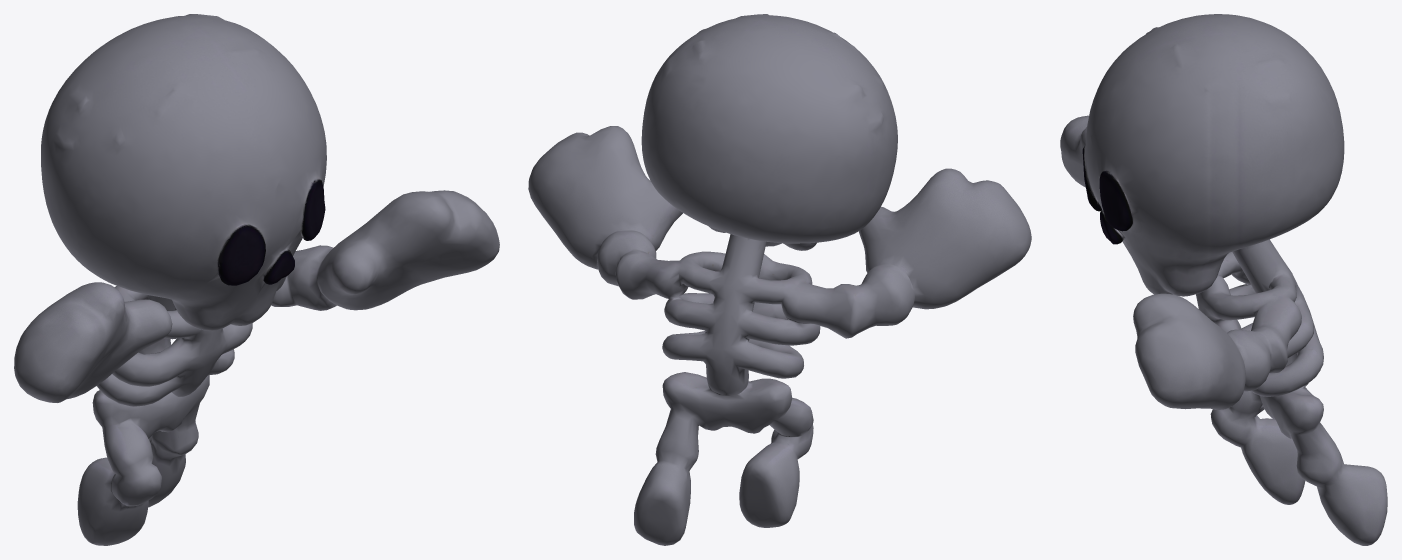
The model's file is tripo_convert_c46e208a-49e4-483c-9e13-7aa04b713fb9.fbx.
3 views of the same model, side by side, from view 1: azimuth 30°, elevation 25°; view 2: azimuth 150°, elevation 25°; view 3: azimuth 270°, elevation 25° (orthographic). The views are drawn at different scales.
Parts seen in each view (by area): view 1: tripo_node_c46e208a; view 2: tripo_node_c46e208a; view 3: tripo_node_c46e208a.
Part boxes in pixels (x1=…): tripo_node_c46e208a: x1=14, y1=14, x2=499, y2=545; tripo_node_c46e208a: x1=528, y1=14, x2=1031, y2=545; tripo_node_c46e208a: x1=1060, y1=14, x2=1387, y2=545.
Bounding box in the file's own units: 0.9777 × 0.979 × 0.5831.
1 material, 1 textured.
